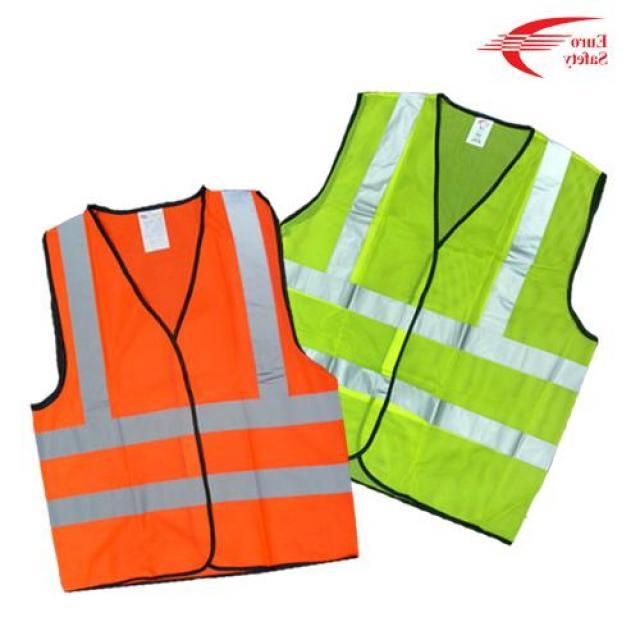reflective_jacket: (272, 71, 627, 551), (15, 184, 364, 593)
